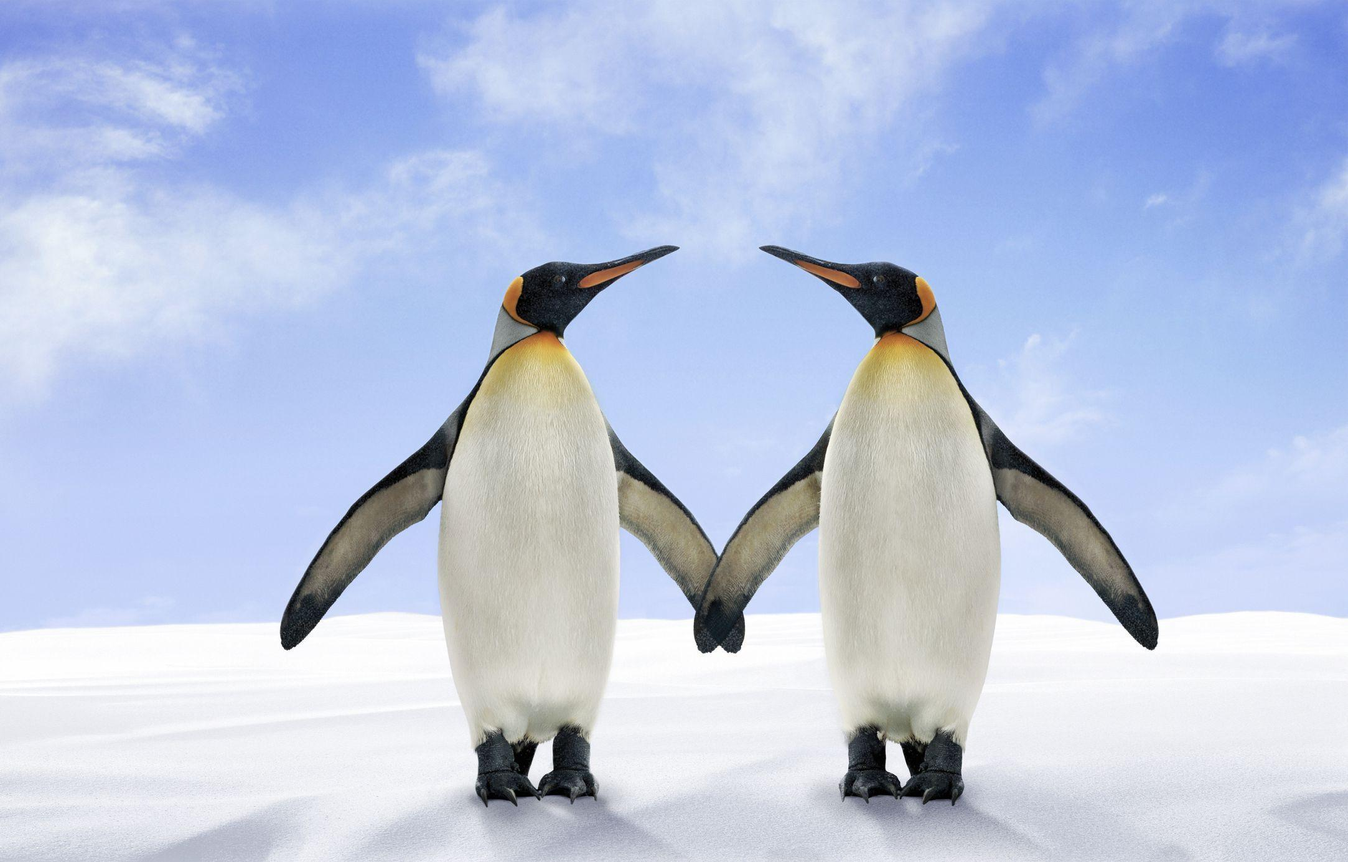Penguin: (695, 245, 1158, 802), (282, 245, 716, 802), (719, 612, 745, 652)
